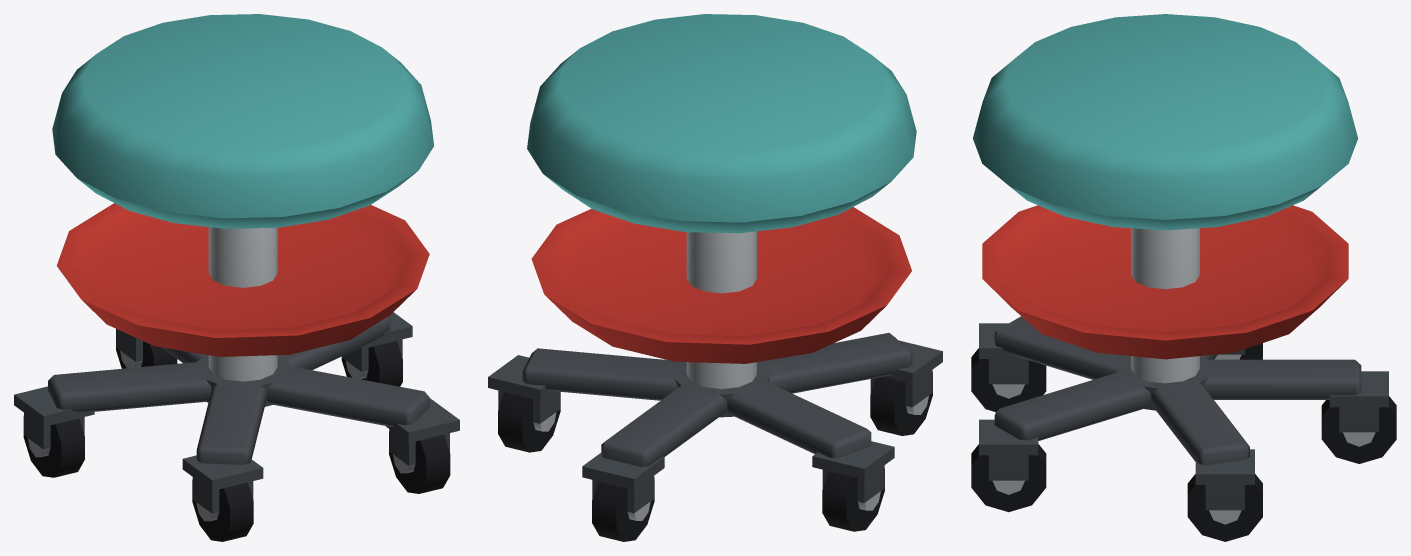
File: ShopStool_Rolling_01.glb
3 views of the same model, side by side, from view 1: azimuth 30°, elevation 25°; view 2: azimuth 150°, elevation 25°; view 3: azimuth 270°, elevation 25° (orthographic). The views are drawn at different scales.
Visible parts, largest first — view 1: SM_ShopStool_Rolling_01; view 2: SM_ShopStool_Rolling_01; view 3: SM_ShopStool_Rolling_01.
Part boxes in pixels (bbox=[...]): SM_ShopStool_Rolling_01: bbox=[14, 14, 459, 541]; SM_ShopStool_Rolling_01: bbox=[488, 14, 942, 541]; SM_ShopStool_Rolling_01: bbox=[971, 14, 1396, 541].
Size of the model in its own units: 0.4328 by 0.42 by 0.4307.
Materials: 1 (1 with a texture image).
